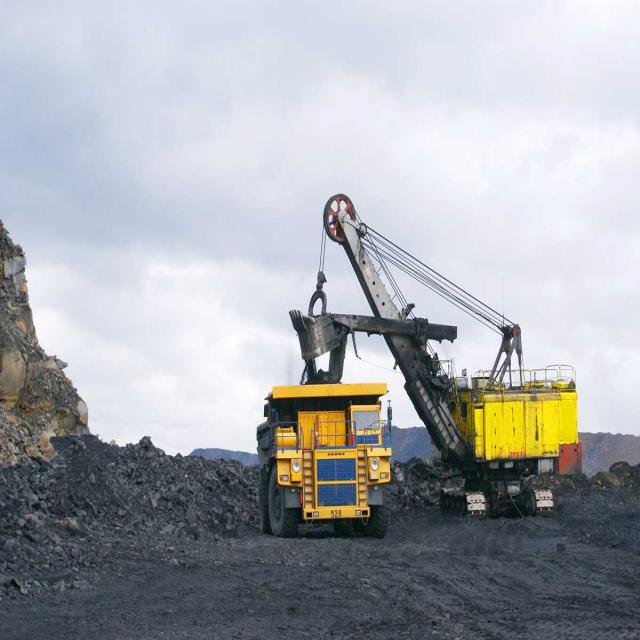dump_truck: (249, 382, 394, 530)
excavator: (284, 177, 592, 529)
